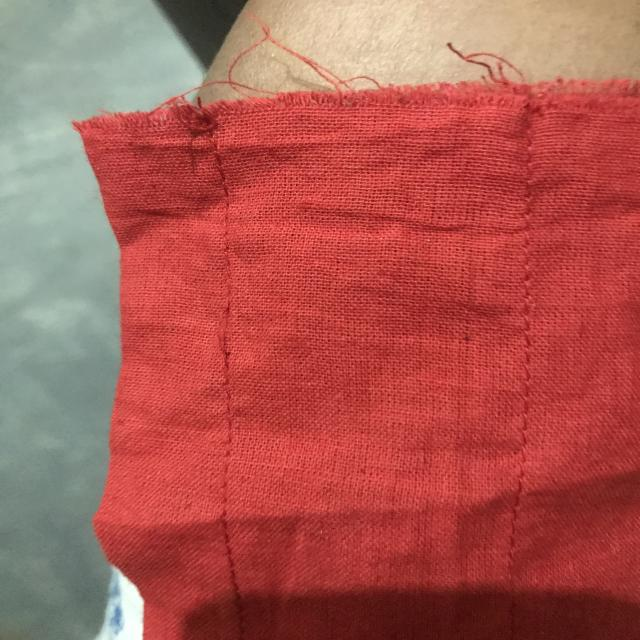good: (519, 304, 543, 410)
skip: (193, 294, 246, 367)
